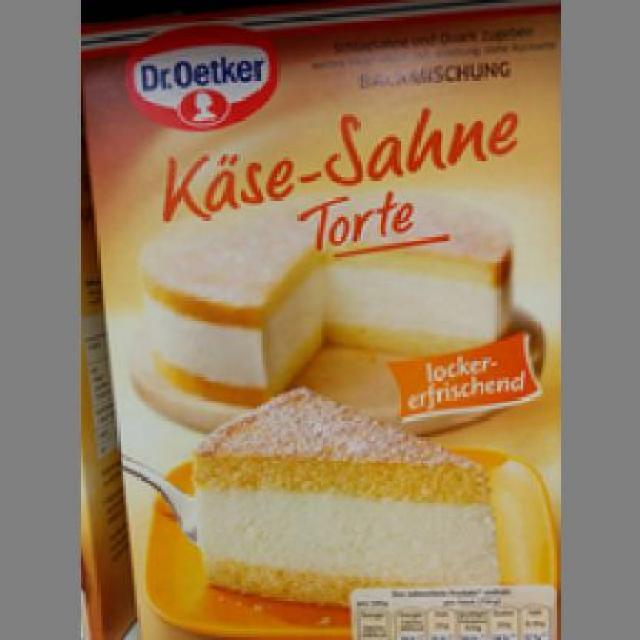Cake: (82, 8, 552, 634)
